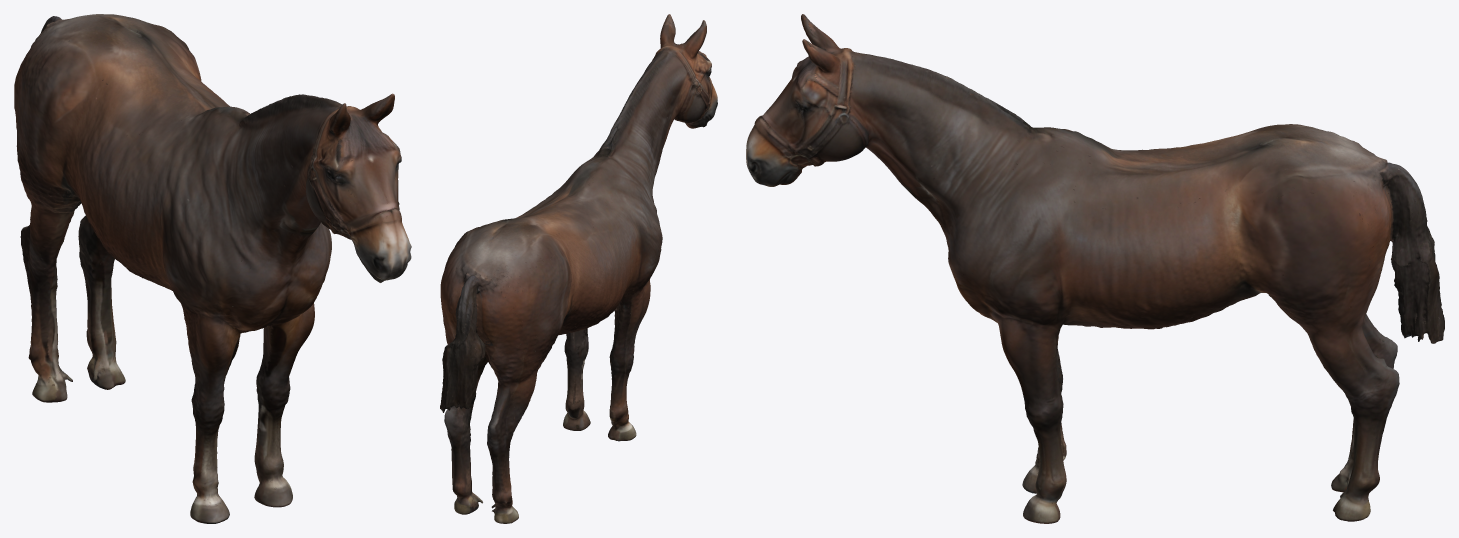
Rendered from Meshy_AI_horse_0401115437_texture.fbx.
3 views of the same model, side by side, from view 1: azimuth 30°, elevation 25°; view 2: azimuth 150°, elevation 25°; view 3: azimuth 270°, elevation 25° (orthographic). The views are drawn at different scales.
Visible parts, largest first — view 1: Mesh_0; view 2: Mesh_0; view 3: Mesh_0.
Boxes of the visible parts, bbox=[...] form: Mesh_0: bbox=[14, 14, 411, 523]; Mesh_0: bbox=[440, 14, 717, 523]; Mesh_0: bbox=[746, 14, 1444, 523].
Bounding box in the file's own units: 49.35 × 150 × 199.
Materials: 1 (1 with a texture image).
